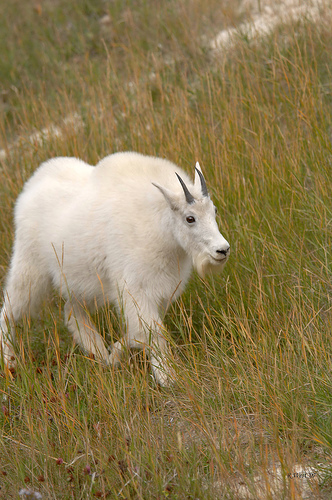goat: (1, 151, 232, 391)
